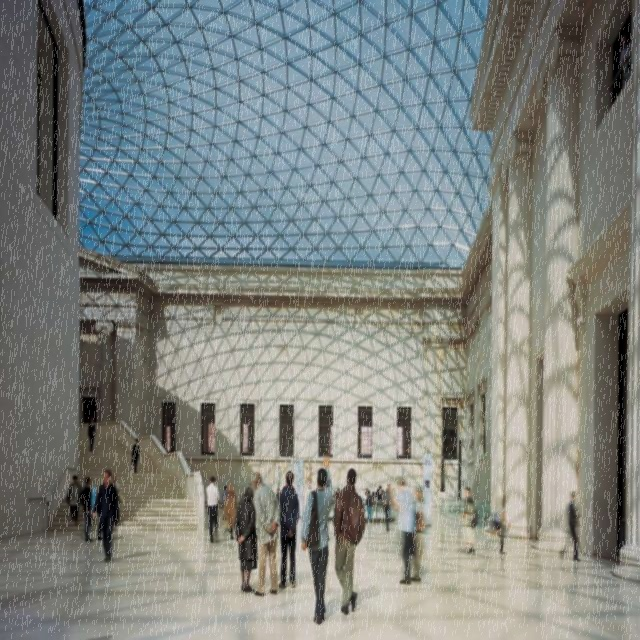pessoa: (300, 456, 334, 625), (332, 468, 366, 614), (251, 471, 281, 597), (394, 471, 425, 586), (276, 469, 300, 588), (234, 486, 258, 594), (98, 468, 120, 562), (558, 489, 582, 562), (460, 484, 478, 555), (491, 494, 511, 556), (205, 475, 221, 544), (64, 474, 85, 526), (78, 476, 93, 542), (223, 485, 237, 540), (94, 483, 105, 541), (110, 474, 122, 526), (130, 438, 142, 474), (383, 481, 391, 533), (87, 416, 96, 454), (365, 489, 373, 525), (304, 458, 312, 489), (275, 487, 282, 515), (221, 484, 227, 508), (374, 485, 382, 501), (332, 486, 340, 501), (245, 480, 253, 490), (362, 488, 368, 500), (238, 493, 244, 505), (379, 488, 384, 500)
